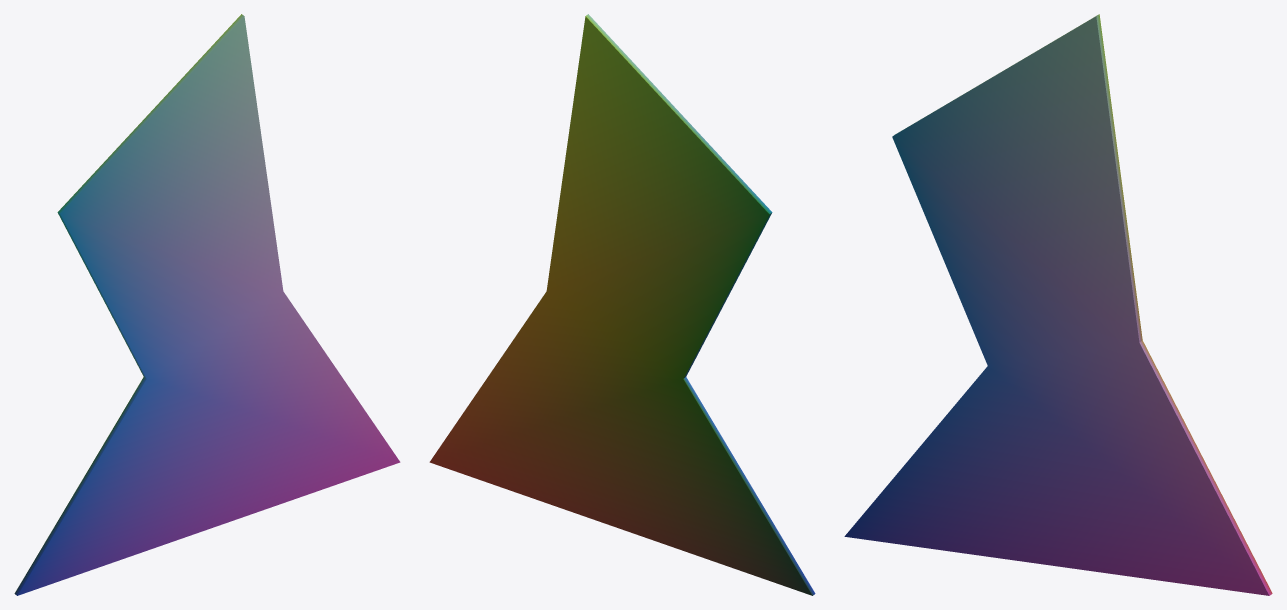
The model's file is zeometry-flat-shapes-flat-shard_v1.glb.
3 views of the same model, side by side, from view 1: azimuth 30°, elevation 25°; view 2: azimuth 150°, elevation 25°; view 3: azimuth 330°, elevation 25° (orthographic). The views are drawn at different scales.
Parts seen in each view (by area): view 1: Flat Shard_v1; view 2: Flat Shard_v1; view 3: Flat Shard_v1.
Part boxes in pixels (x1,y1,x2,y2): Flat Shard_v1: (14, 14, 400, 595); Flat Shard_v1: (429, 14, 815, 595); Flat Shard_v1: (844, 14, 1272, 595).
Bounding box in the file's own units: 0.3824 × 0.5 × 0.00507.
